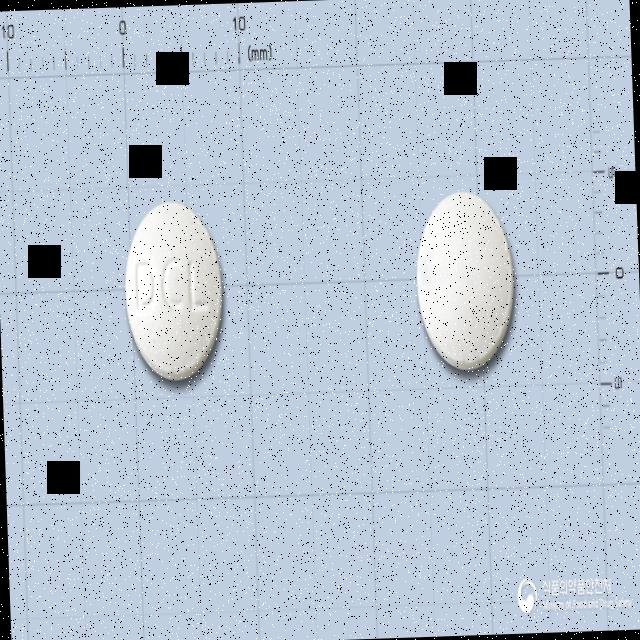Dongkoo Levofloxacin Hydrate Tab: (121, 198, 227, 384)
